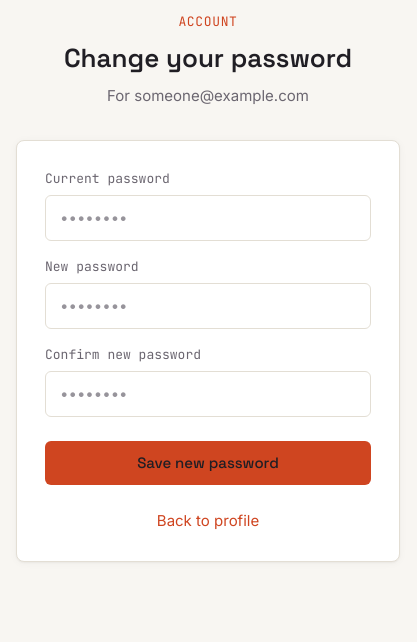
it: ChangePasswordPage › shows a friendly message for the wrong current password
This screenshot has width=417, height=642.
Type "oldpassword" into the password field with placeholder "••••••••" at (208, 218), box [45,195,371,241]
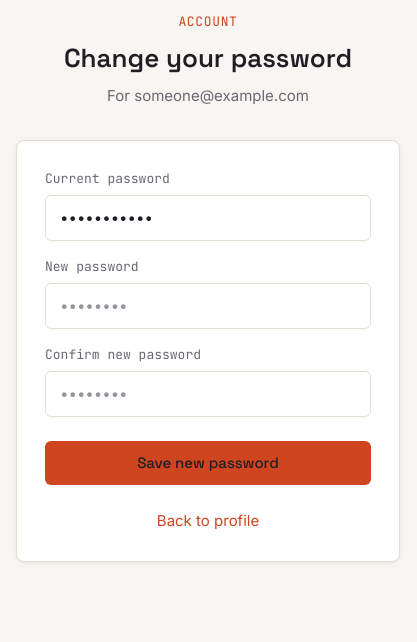
Type "newpassword1" into the password field with placeholder "••••••••" at (208, 306), box [45,283,371,329]
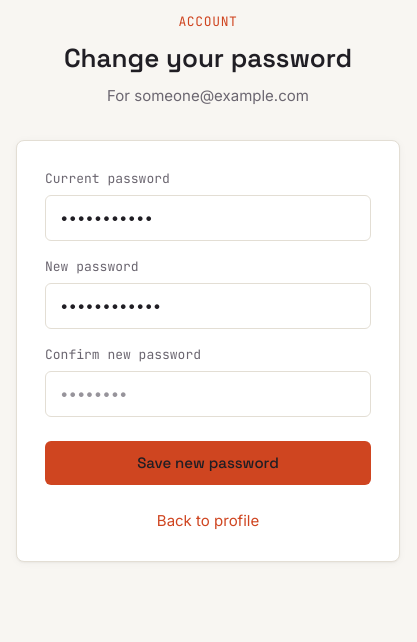
Type "newpassword1" into the password field with placeholder "••••••••" at (208, 394), box [45,371,371,417]
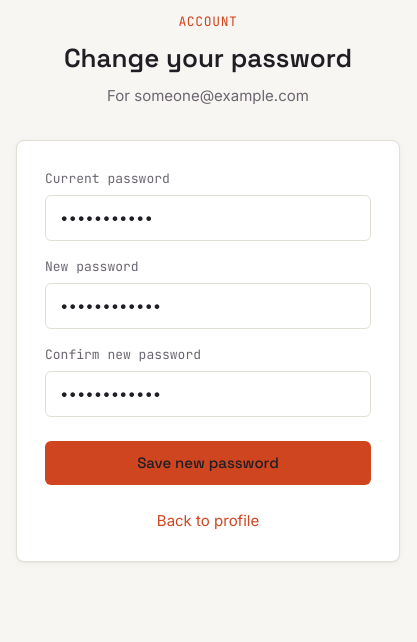
Click the button "Save new password" at (208, 463), box [45,441,371,485]
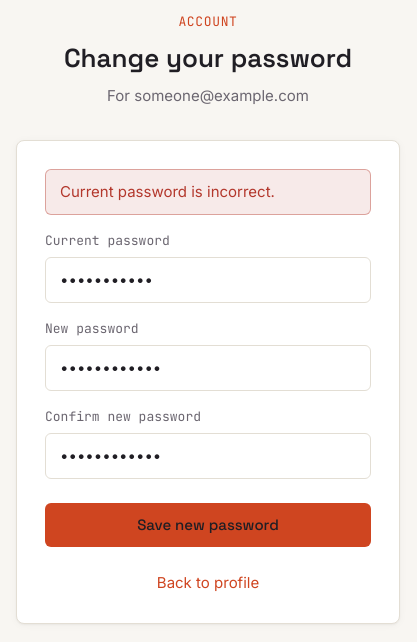
Check: the text "Current password is incorrect." is shown, box [45,169,371,215]
